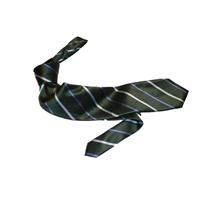tie: (34, 36, 188, 156)
